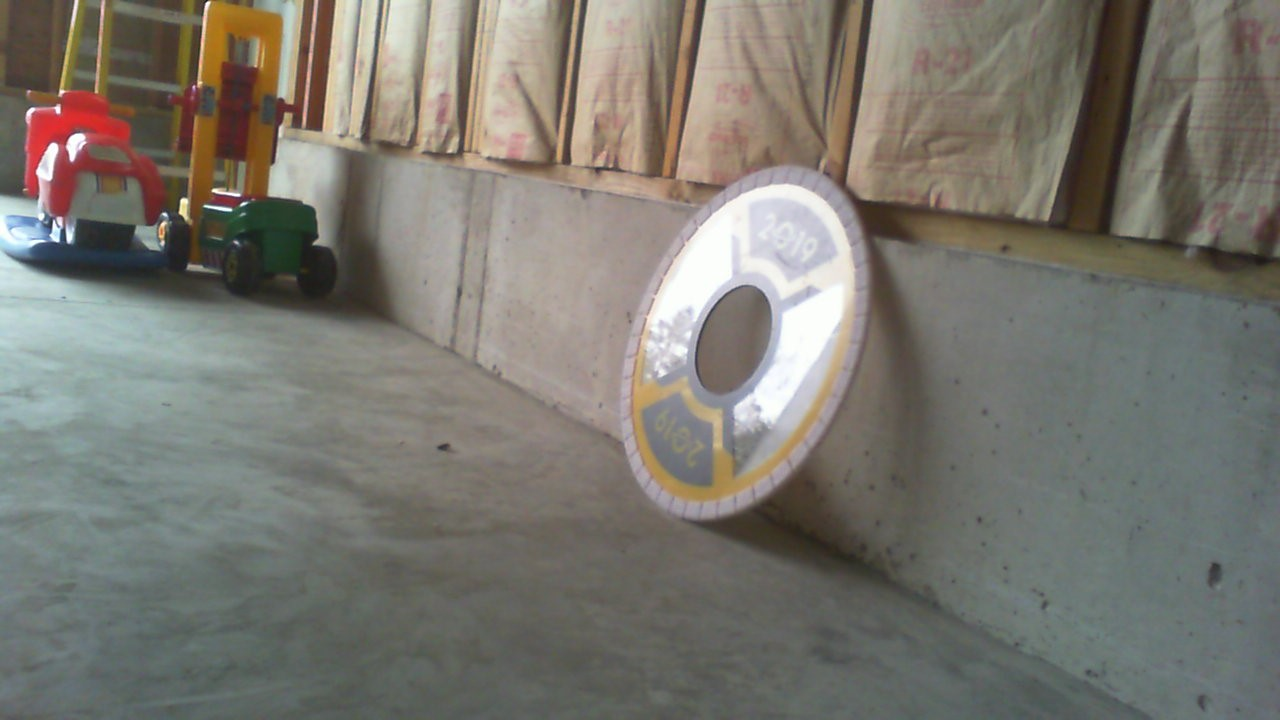Hatch: (618, 163, 871, 522)
